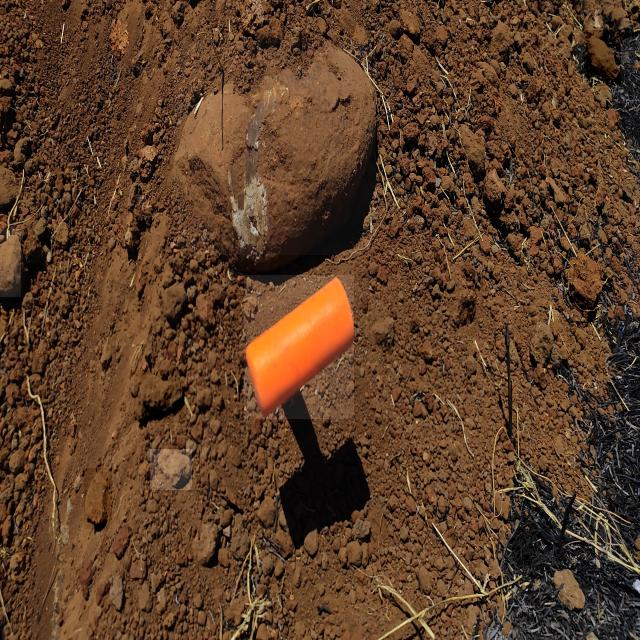Orange_hammer: (244, 275, 354, 419)
rock: (174, 41, 376, 255), (134, 370, 185, 423), (563, 248, 604, 313), (586, 30, 621, 86), (150, 449, 192, 490), (84, 468, 112, 529), (0, 229, 21, 297)
